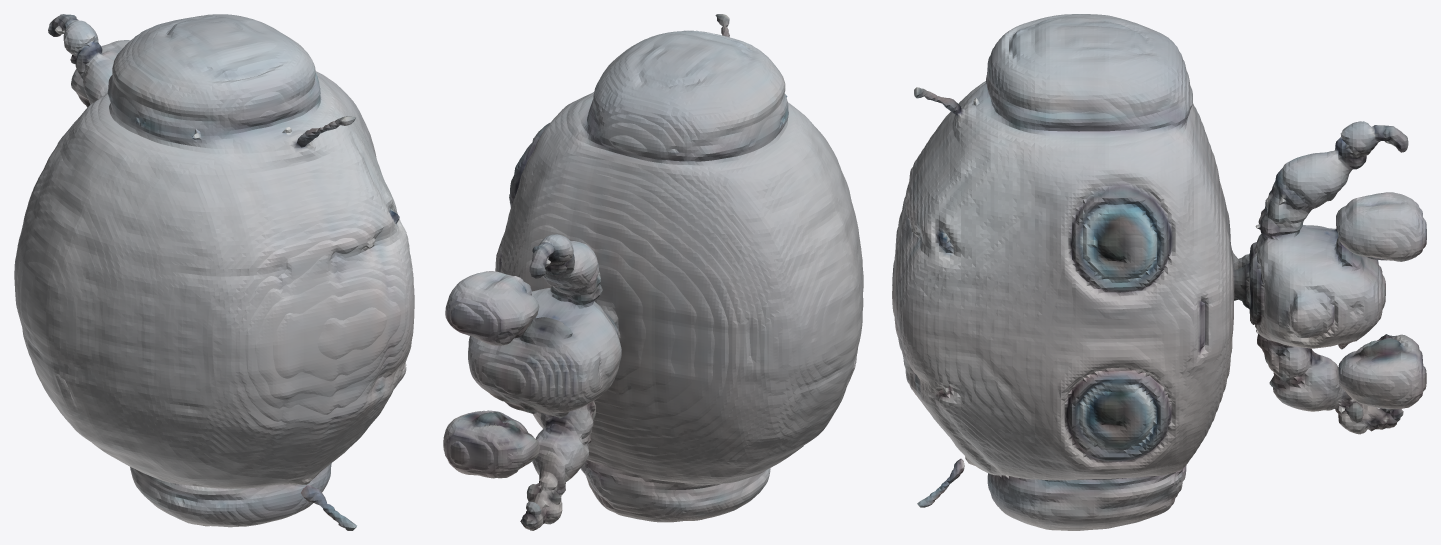
3 renders of one model, left to right at view 1: azimuth 30°, elevation 25°; view 2: azimuth 150°, elevation 25°; view 3: azimuth 270°, elevation 25°, orthographic. The views are drawn at different scales.
Parts seen in each view (by area): view 1: world; view 2: world; view 3: world.
Boxes of the visible parts, <box> form: world: <box>14,14,414,530</box>; world: <box>443,14,863,530</box>; world: <box>892,14,1426,530</box>.
Size of the model in its own units: 0.7126 by 0.9697 by 0.987.
